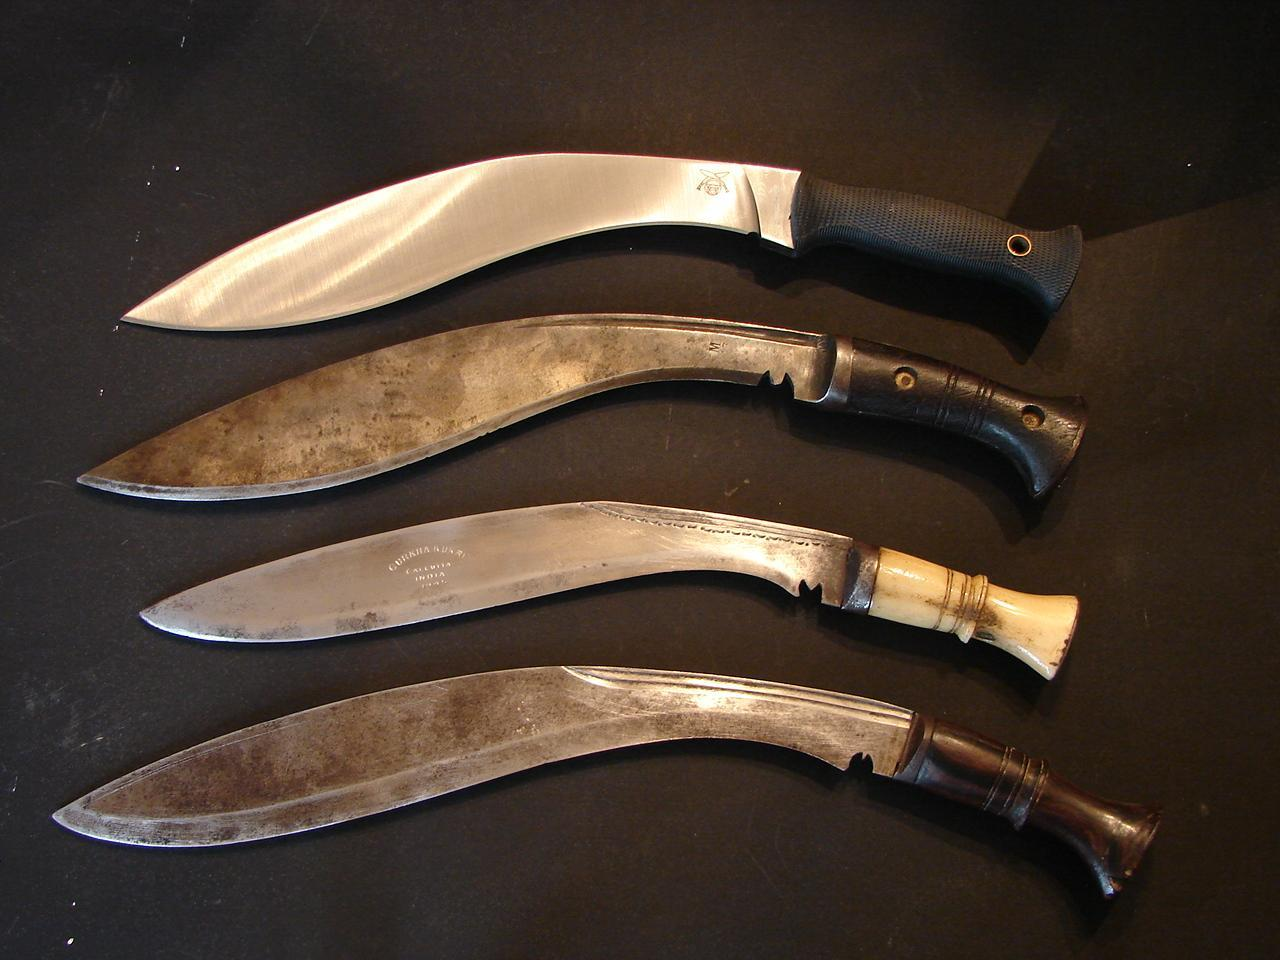facao: (53, 666, 1157, 898), (78, 314, 1087, 501), (123, 154, 1082, 330), (141, 501, 1077, 678)
